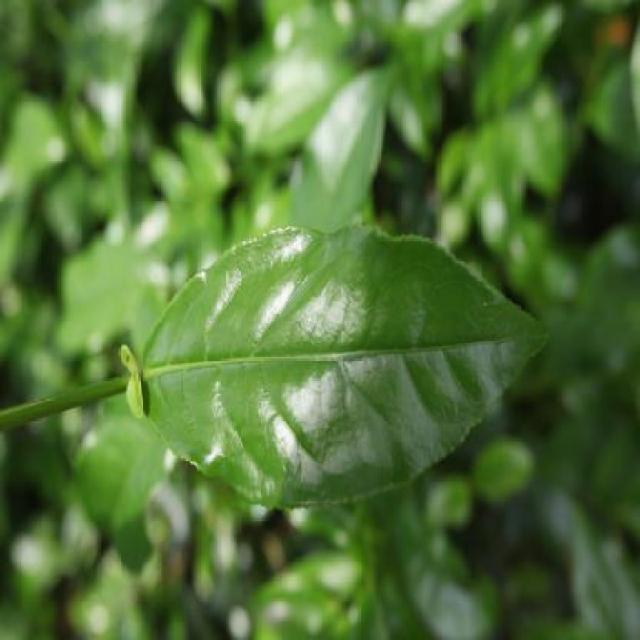Tea leaf: (135, 213, 552, 482)
